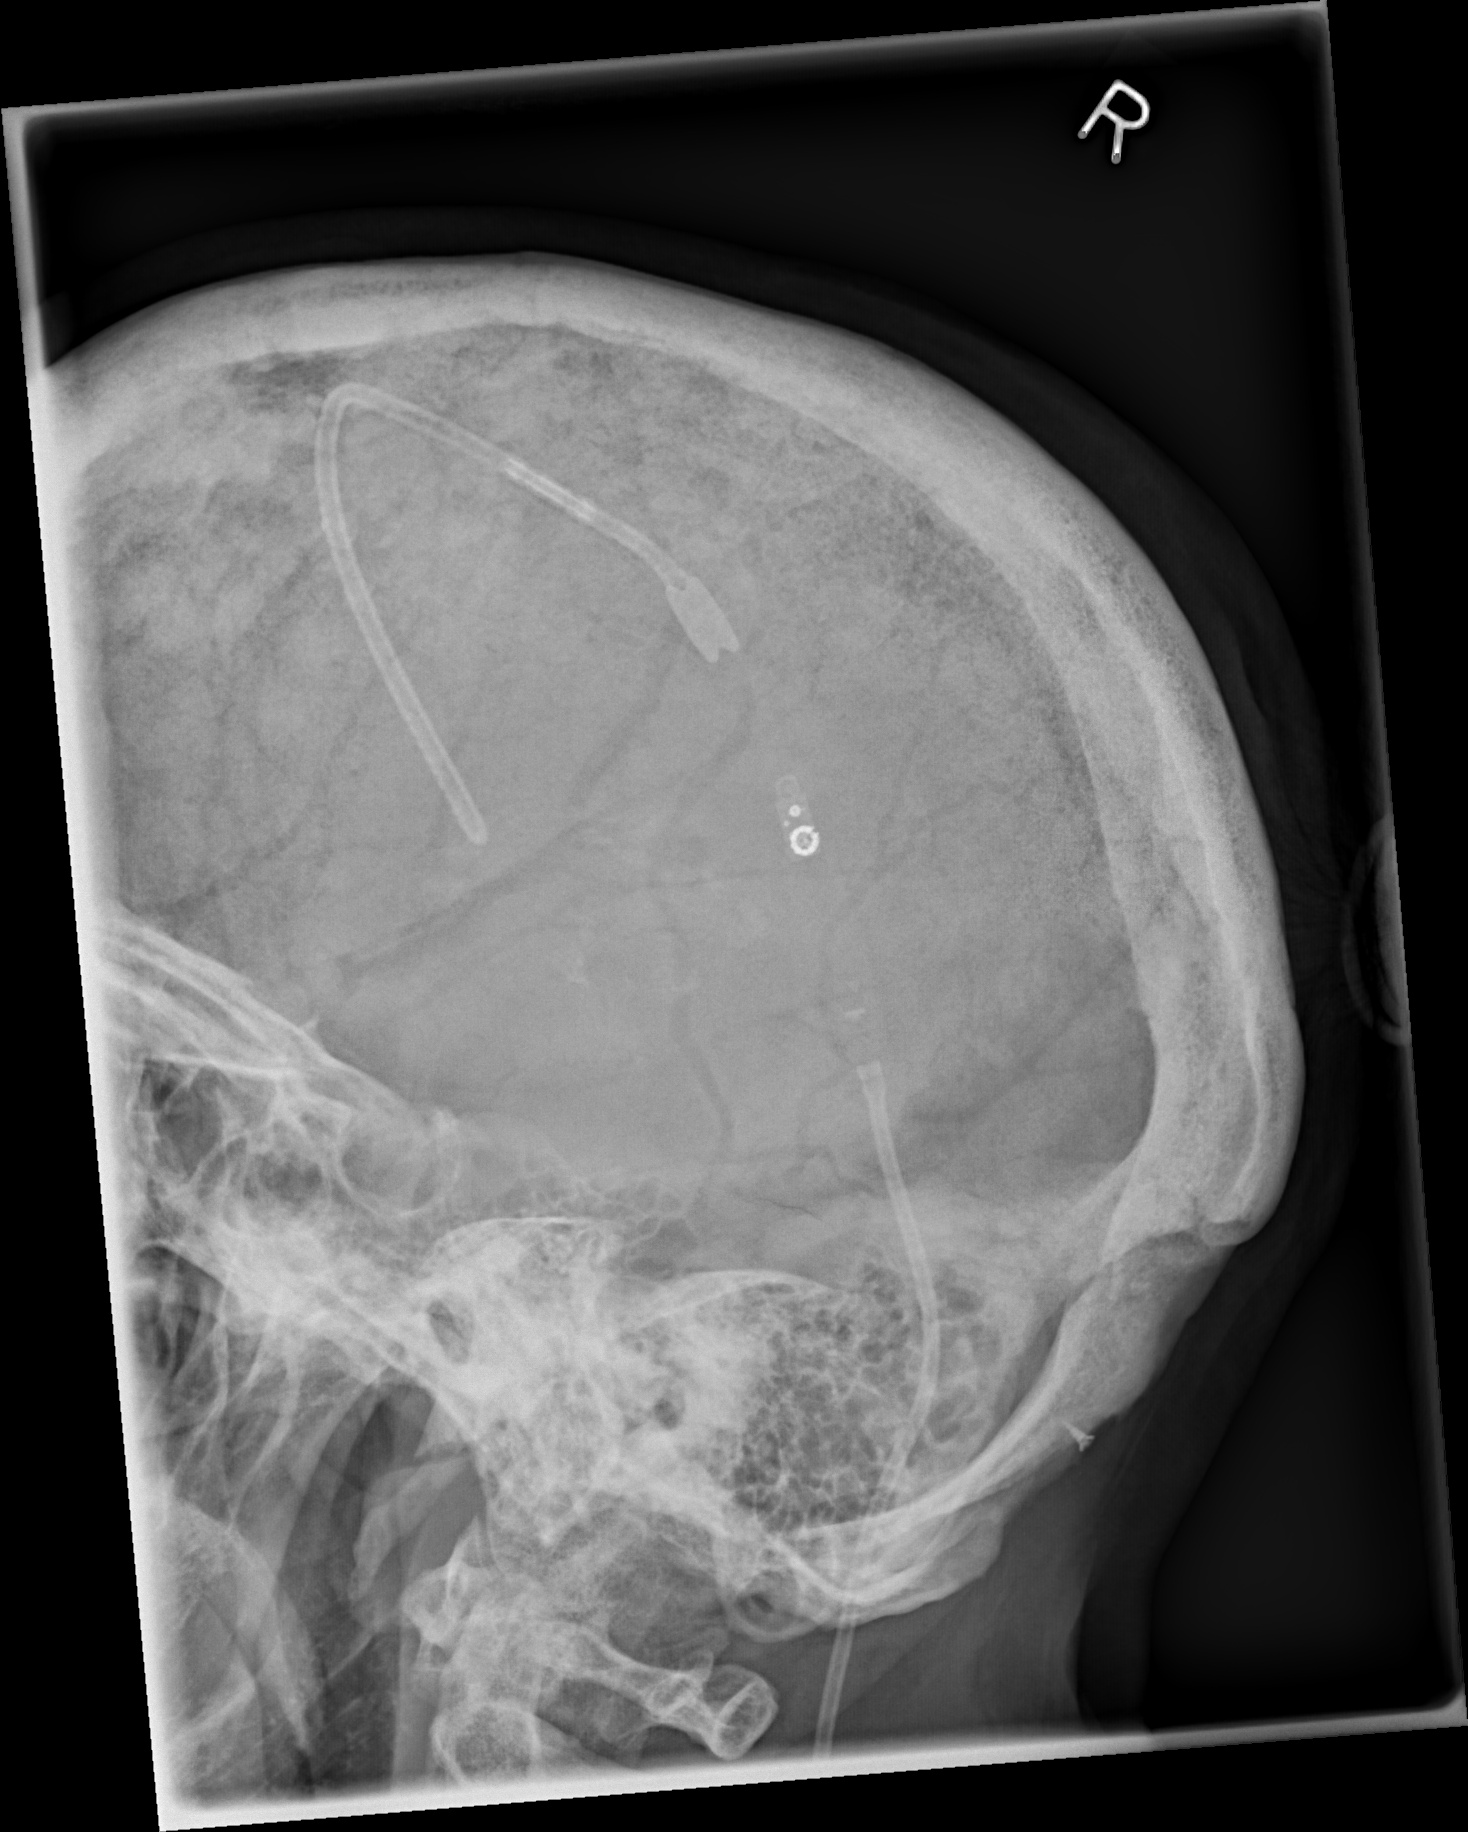Codman Hakim: (768, 786, 831, 879)
